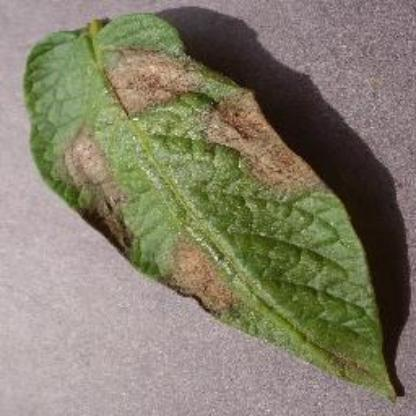Late-Blight: (13, 16, 413, 402)
